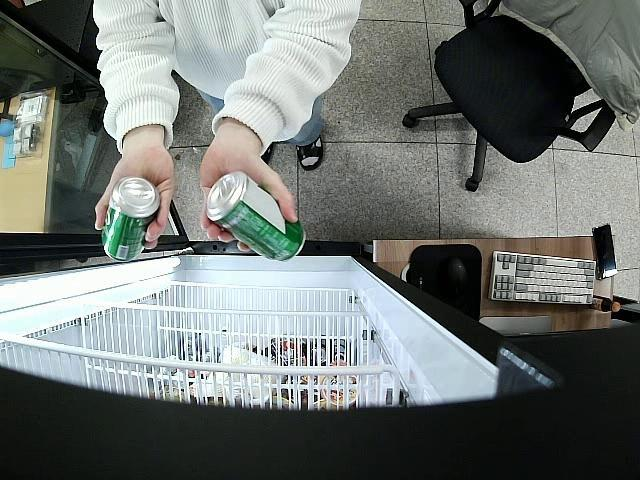12_chilsungCider: (205, 172, 306, 260), (102, 176, 160, 263)
